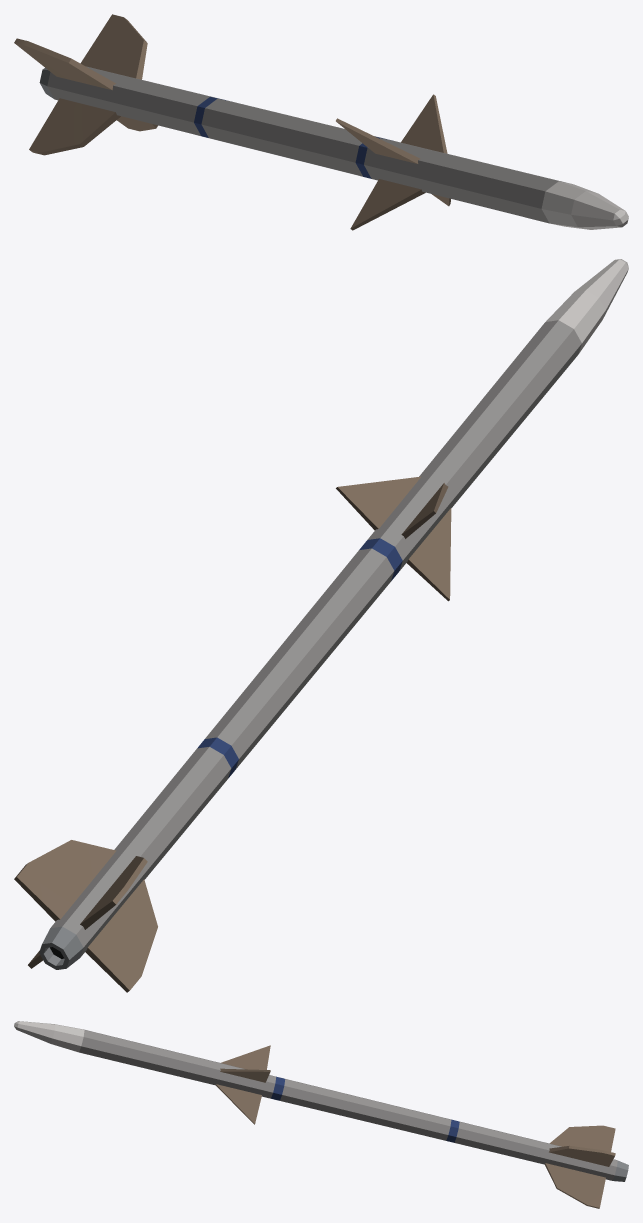
Rendered from SM_Prop_Missle_Launcher_02_Missle_10.glb.
The picture shows the model from 3 angles, top to bottom: view 1: azimuth 30°, elevation 25°; view 2: azimuth 150°, elevation 25°; view 3: azimuth 270°, elevation 25°; orthographic projection. The views are drawn at different scales.
Parts seen in each view (by area): view 1: SM_Prop_Missle_Launcher_02_Missle_10; view 2: SM_Prop_Missle_Launcher_02_Missle_10; view 3: SM_Prop_Missle_Launcher_02_Missle_10.
Part boxes in pixels (x1,y1,x2,y2): SM_Prop_Missle_Launcher_02_Missle_10: (14, 14, 628, 230); SM_Prop_Missle_Launcher_02_Missle_10: (14, 259, 628, 992); SM_Prop_Missle_Launcher_02_Missle_10: (14, 1021, 628, 1208).
Size of the model in its own units: 0.3814 by 1.16 by 3.68.
1 material, 1 textured.
